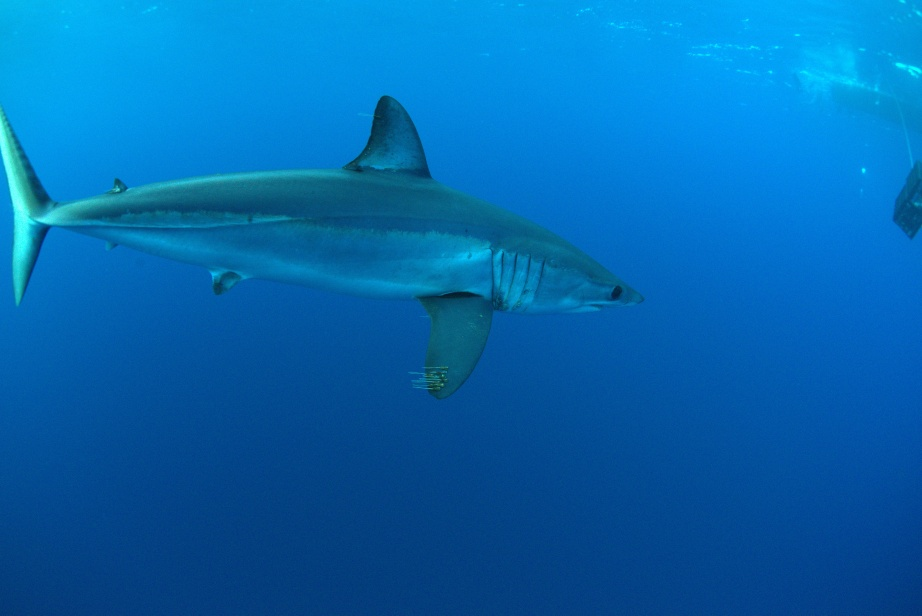Mako: (1, 88, 647, 412)
